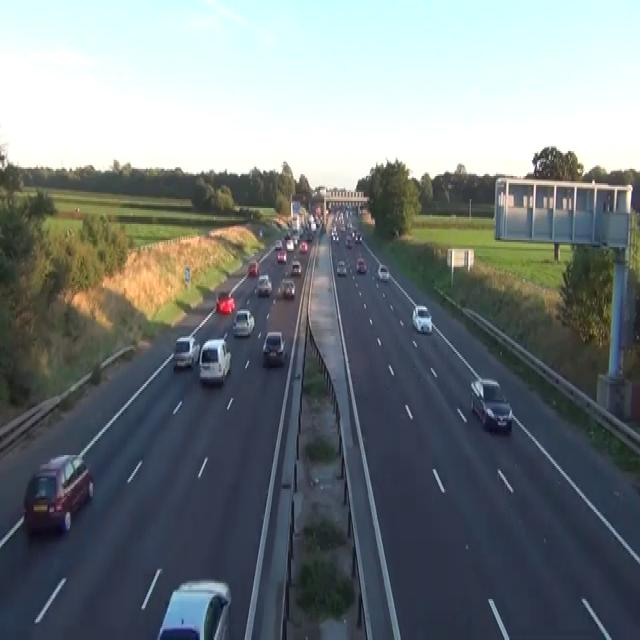Car: (23, 453, 93, 535), (156, 578, 231, 638), (470, 377, 512, 434), (198, 338, 231, 386), (173, 336, 200, 368), (262, 331, 285, 366), (232, 309, 255, 336), (412, 304, 432, 332), (215, 291, 235, 313), (254, 274, 272, 297), (279, 277, 295, 299), (377, 265, 389, 281), (248, 260, 259, 276), (356, 258, 366, 274), (291, 258, 301, 274), (336, 260, 346, 276), (277, 249, 286, 263), (302, 229, 313, 240), (285, 238, 294, 251), (299, 240, 307, 252), (274, 238, 282, 249), (332, 231, 339, 242), (345, 237, 352, 247), (355, 233, 362, 242), (292, 233, 298, 243), (283, 230, 290, 238), (325, 208, 329, 215), (259, 228, 262, 236)
